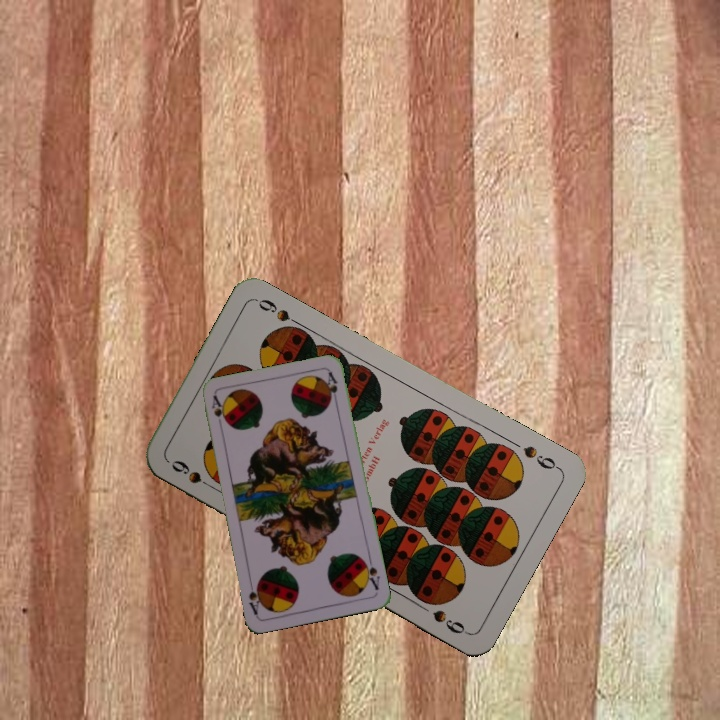S9: (167, 455, 219, 493), (519, 441, 562, 472)
SA: (359, 553, 383, 593), (207, 392, 228, 424)
